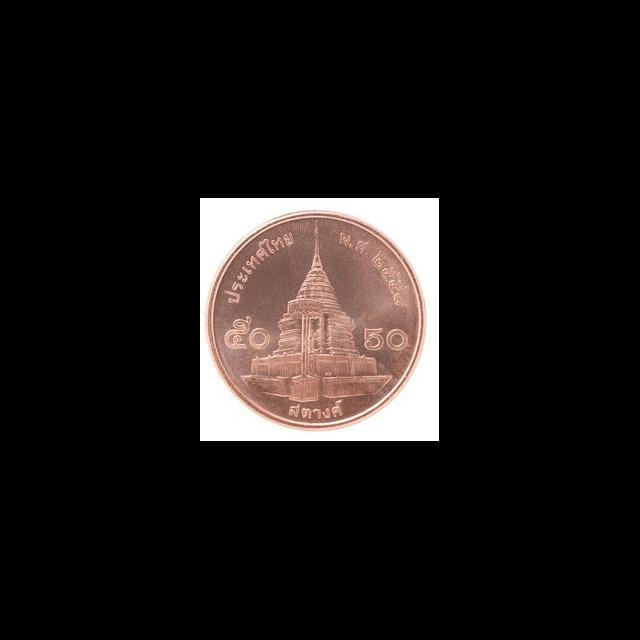50-satang: (201, 200, 440, 437)
